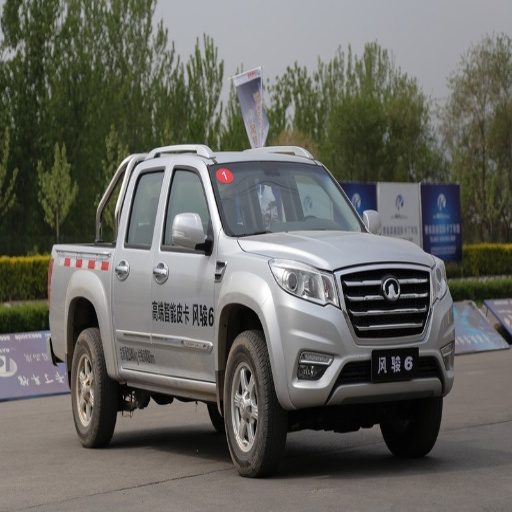front_bumper: (263, 261, 456, 405)
front_right_door: (152, 163, 216, 380)
front_right_light: (270, 260, 337, 303)
trunk: (43, 248, 107, 351)
